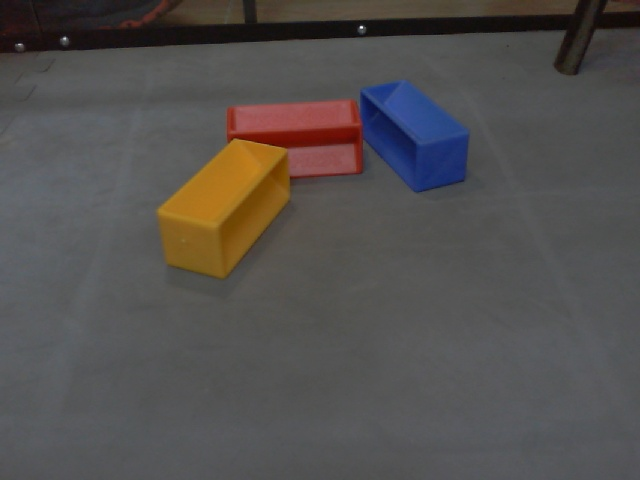BlueSample: (357, 76, 471, 193)
RedSample: (226, 97, 364, 180)
YellowSample: (155, 136, 291, 278)
